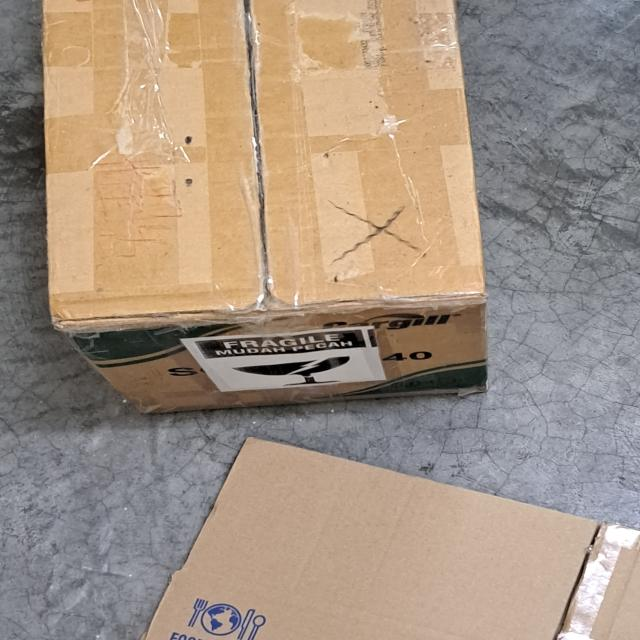cardboard: (43, 0, 487, 410), (146, 439, 640, 640)
